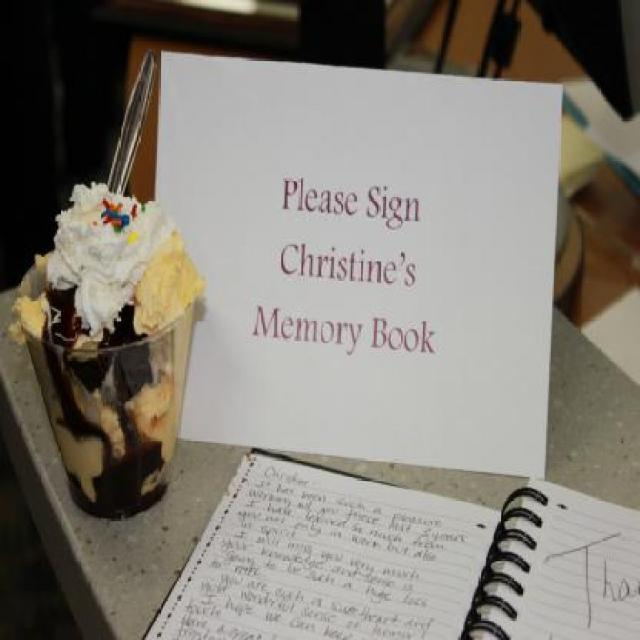Ice cream: (13, 178, 207, 516)
